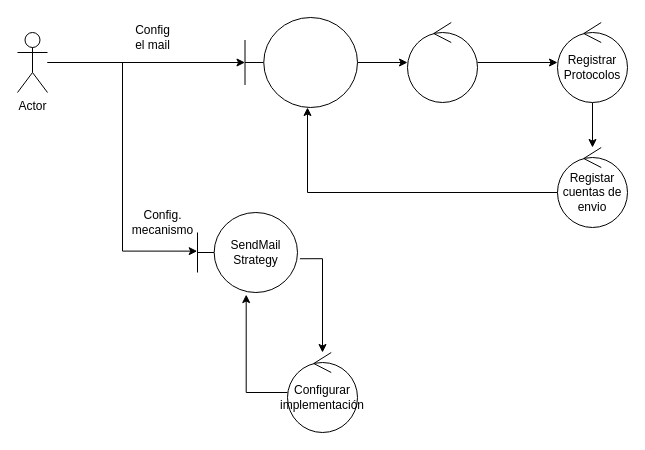
Image size: 645x450. Some labels were removed from this diagram. Here are the shapes that lost their labels. From the top down, the centre of each, then its label:
the point at 301,62: Mail Configurations
the point at 442,62: Registrar Servidores
